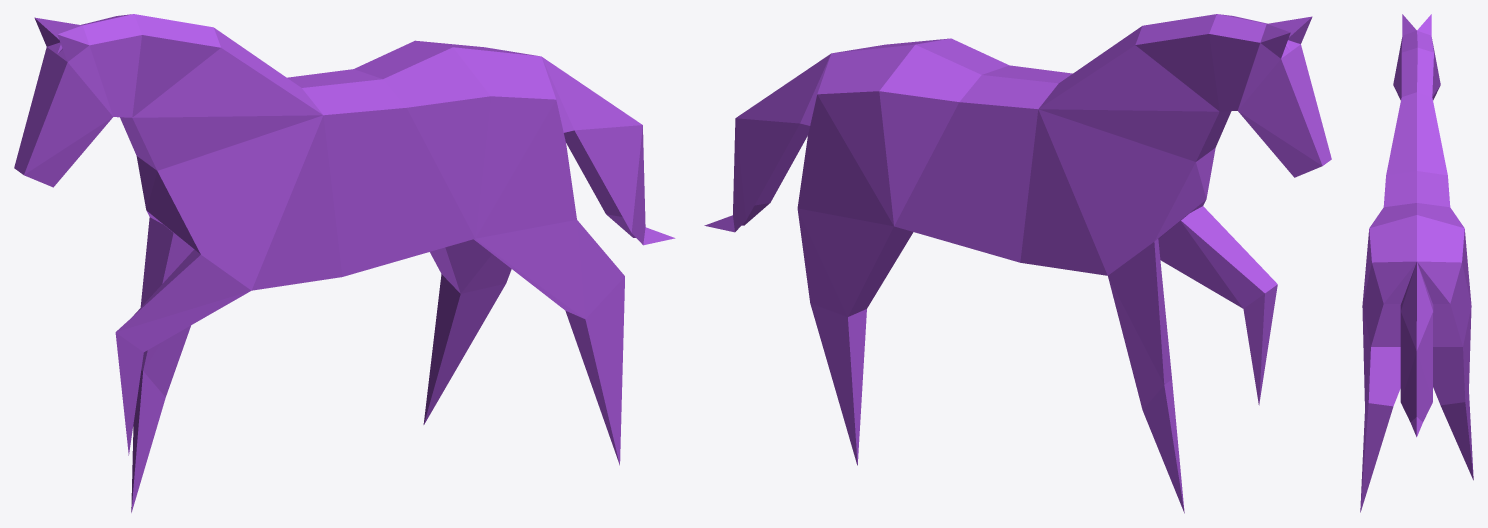
File: Horse.fbx
The picture shows the model from 3 angles, left to right: view 1: azimuth 30°, elevation 25°; view 2: azimuth 150°, elevation 25°; view 3: azimuth 270°, elevation 25°; orthographic projection. The views are drawn at different scales.
Visible parts, largest first — view 1: Horse; view 2: Horse; view 3: Horse.
Boxes of the visible parts, bbox=[...] form: Horse: bbox=[14, 14, 675, 512]; Horse: bbox=[704, 14, 1331, 513]; Horse: bbox=[1360, 14, 1473, 512].
Bounding box in the file's own units: 228 × 178 × 54.16.
